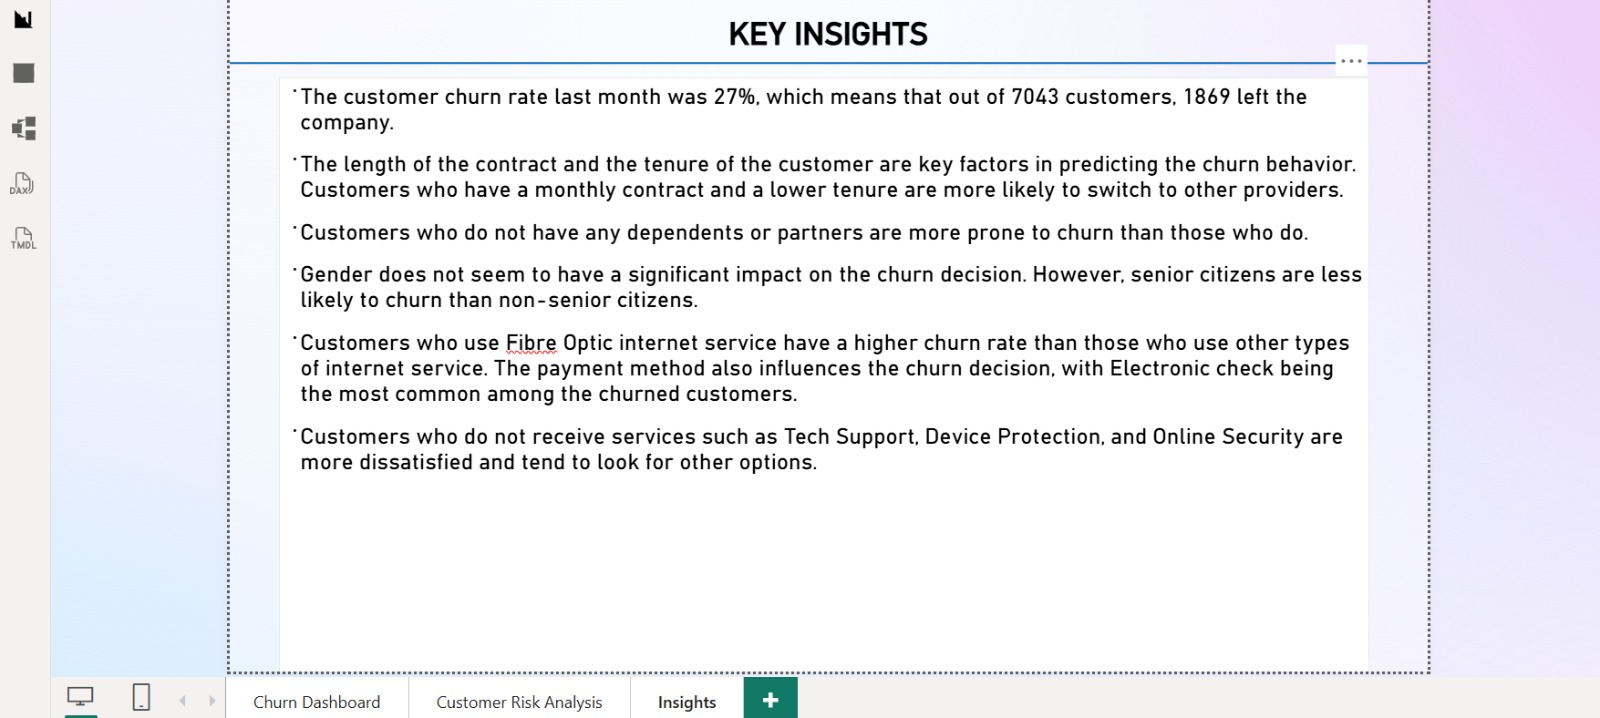

What the dashboard file says about the page in this screenshot:
{"tool":"powerbi","page":{"name":"Insights","canvas":[1280,720],"ordinal":2},"visuals":[{"type":"shape","box":[0,43.3,1280,51.1],"z":0},{"type":"textbox","box":[500,13.3,280,55.6],"z":1000},{"type":"textbox","box":[53.3,84.4,1164.4,635.6],"z":2000}]}

Visuals, with their boxes on the page's 1280x720 design canvas (x1, y1, x2, y2). These are canvas units, not pixel positions in the 1600x718 screenshot, which may show the page scaled, cropped or inside an application window:
shape: box(0, 43, 1280, 94)
textbox: box(500, 13, 780, 69)
textbox: box(53, 84, 1218, 720)
